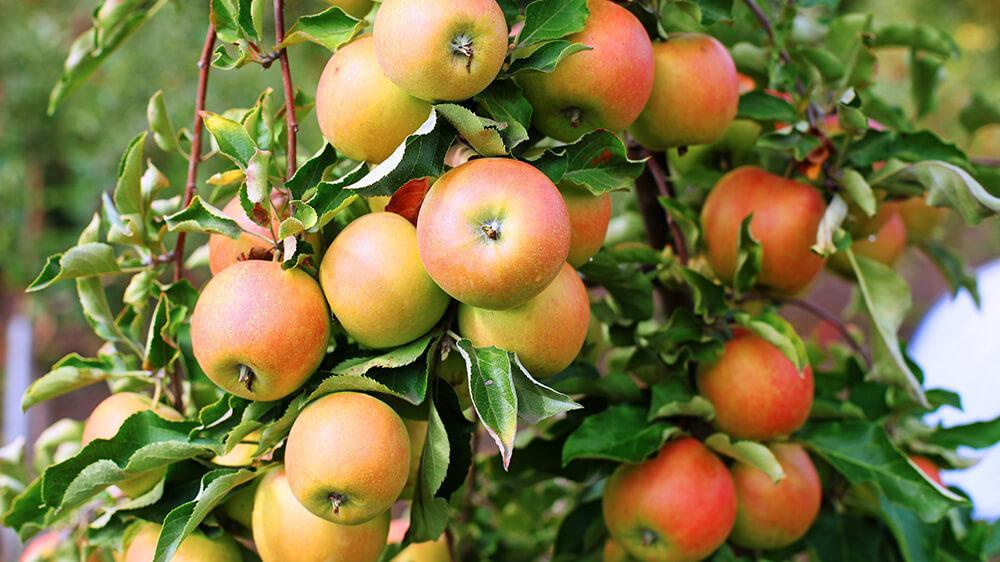apple: (422, 159, 570, 306), (188, 259, 330, 405), (318, 209, 453, 351), (697, 165, 827, 298), (600, 436, 739, 559), (522, 1, 648, 135), (451, 261, 590, 377), (285, 391, 411, 518), (315, 33, 434, 167), (372, 1, 511, 108), (700, 330, 812, 441), (629, 31, 738, 141), (250, 472, 383, 561), (722, 445, 822, 551), (209, 192, 298, 277), (80, 390, 186, 448), (125, 516, 248, 562)
